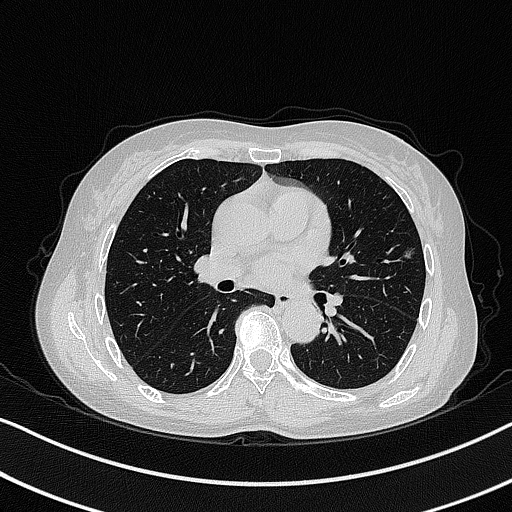nodule: (402, 248, 414, 259)
